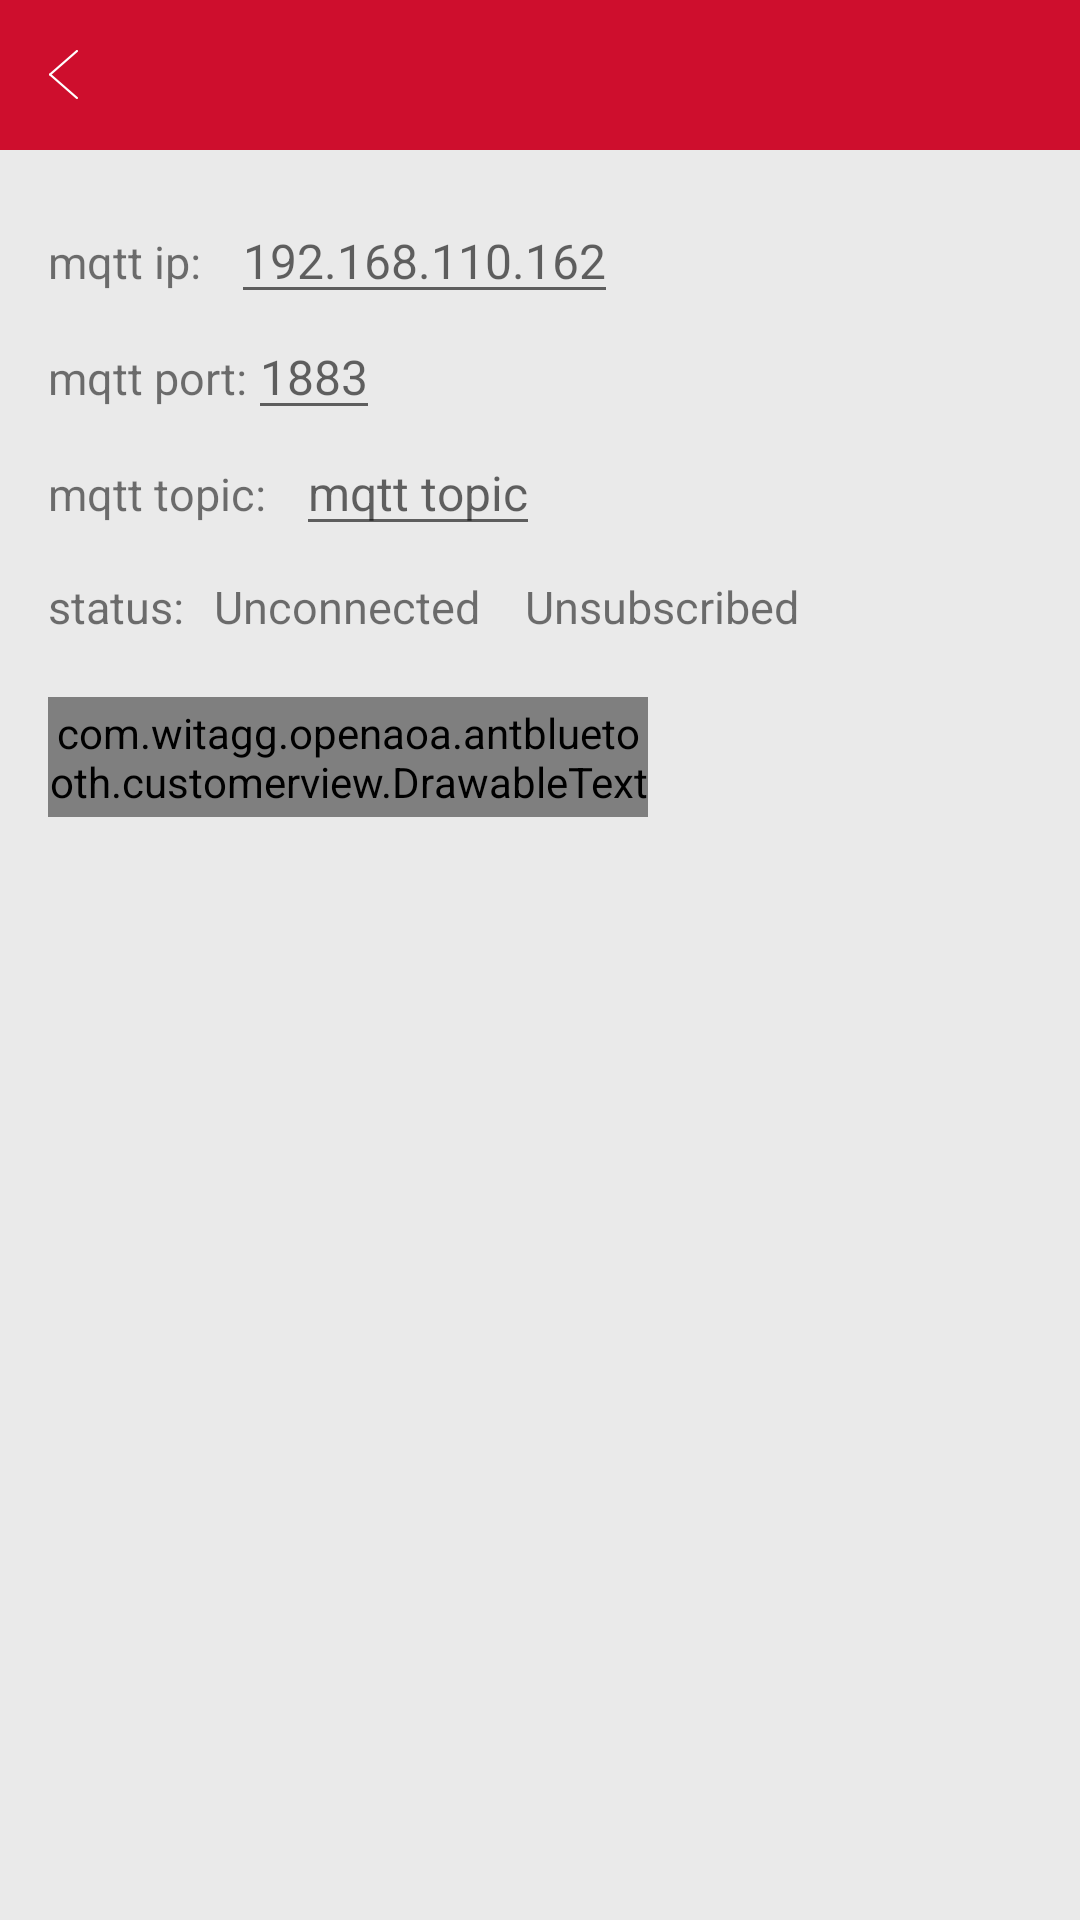

Where to tap for icons on this 1080w x 1920h app screen, as (x=x, y=y):
back: (x=63, y=74)
